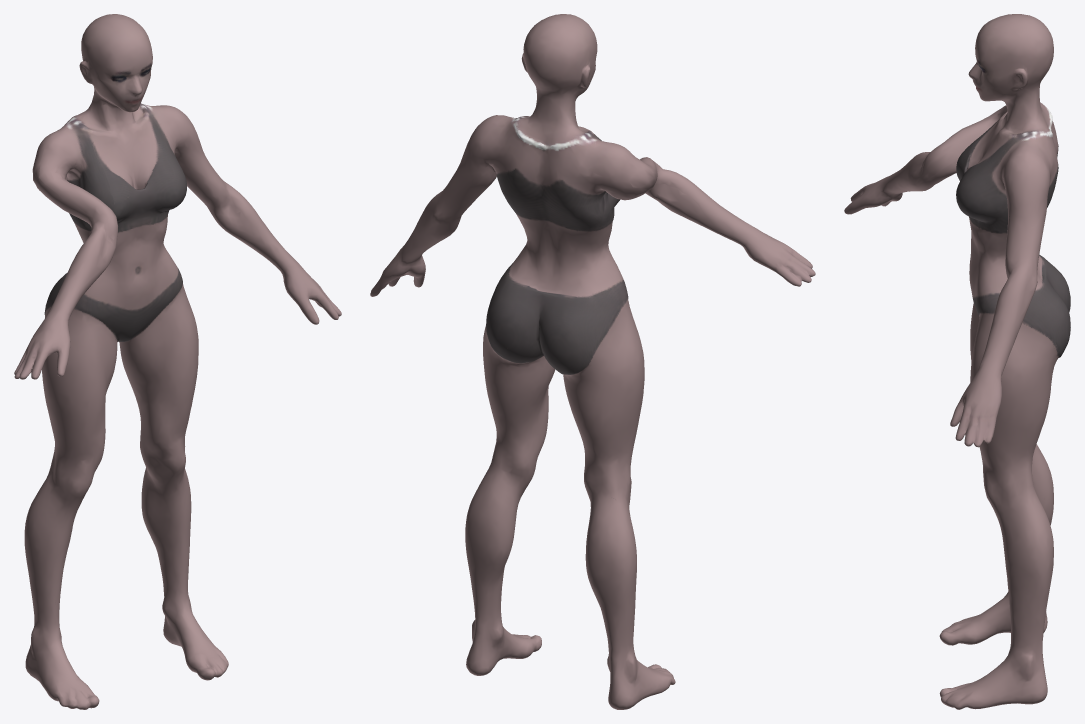
Rendered from 15-UpperArmL-60-child60-twist0-candidate.glb.
3 views of the same model, side by side, from view 1: azimuth 30°, elevation 25°; view 2: azimuth 150°, elevation 25°; view 3: azimuth 270°, elevation 25° (orthographic). The views are drawn at different scales.
Visible parts, largest first — view 1: candidate; view 2: candidate; view 3: candidate.
Boxes of the visible parts, <box> form: candidate: <box>14,14,341,709</box>; candidate: <box>370,14,815,709</box>; candidate: <box>844,14,1070,709</box>.
Bounding box in the file's own units: 0.6038 × 1 × 0.3143.
Materials: 1 (1 with a texture image).
